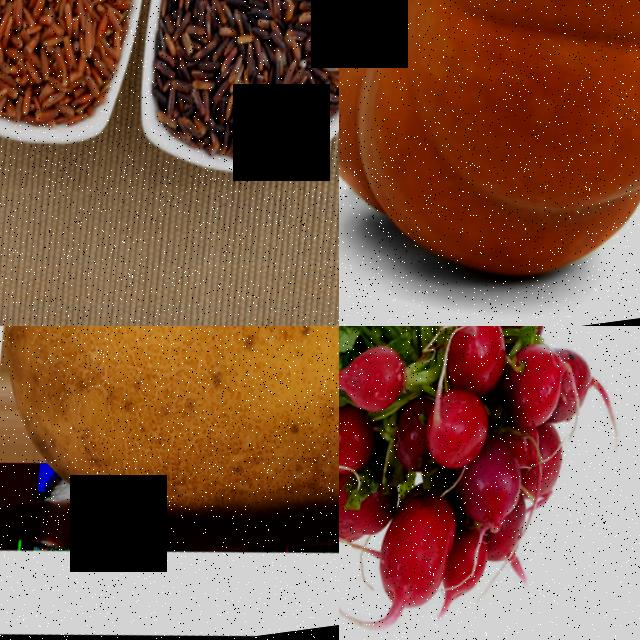potato: (0, 326, 339, 616)
pumpkin: (339, 0, 640, 326)
radishes: (339, 326, 629, 640)
red rice: (139, 0, 339, 171), (0, 0, 155, 147)
